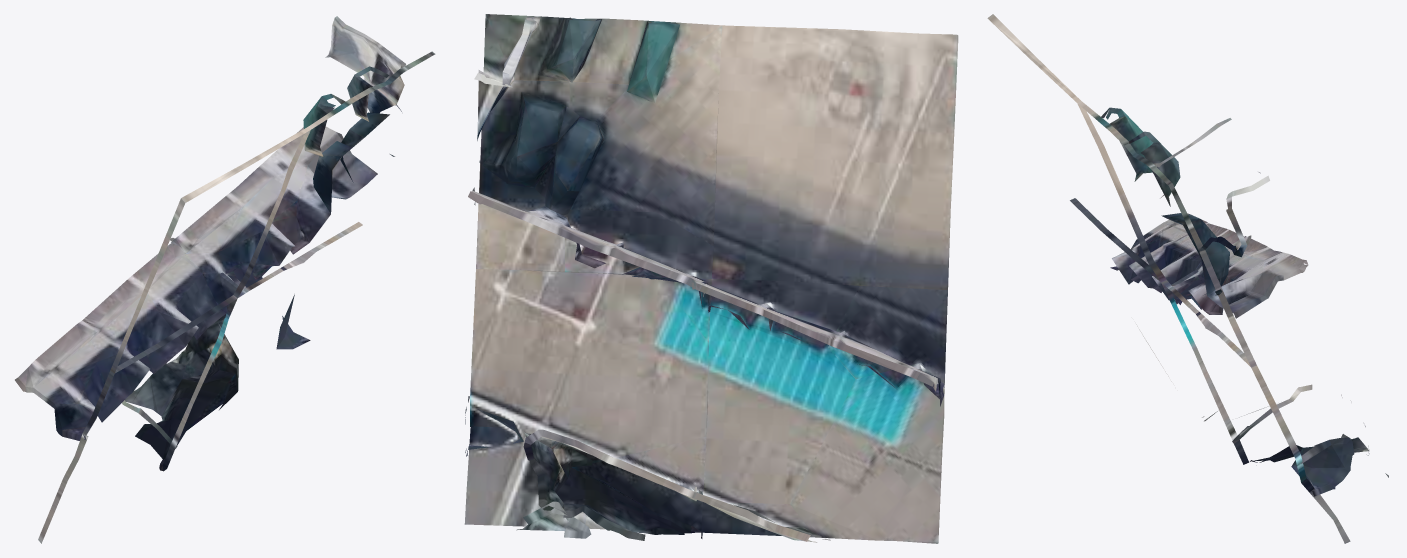
File: AJVsH2zVnUcFS84NZCY6ofrGGwVl3Zwb6qip1aBjrUccI203dQCns3CyvJJwWdoIGOT9mqNRz1CUg6jD4pHSgVwNj44d9R-gJ7qitZ8FaGD1gmdNDV3vZxpG_JBdbdv_TQz4YxJJ_d_bO7E4DSZJVUETfq3I.glb
The picture shows the model from 3 angles, left to right: view 1: azimuth 30°, elevation 25°; view 2: azimuth 150°, elevation 25°; view 3: azimuth 270°, elevation 25°; orthographic projection. The views are drawn at different scales.
Bounding box in the file's own units: 39.43 × 38.51 × 32.66.
1 material, 1 textured.
